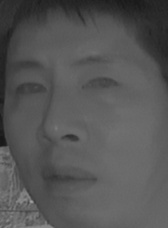eye: (79, 74, 120, 96), (11, 79, 48, 100)
mouth: (39, 160, 98, 198)
